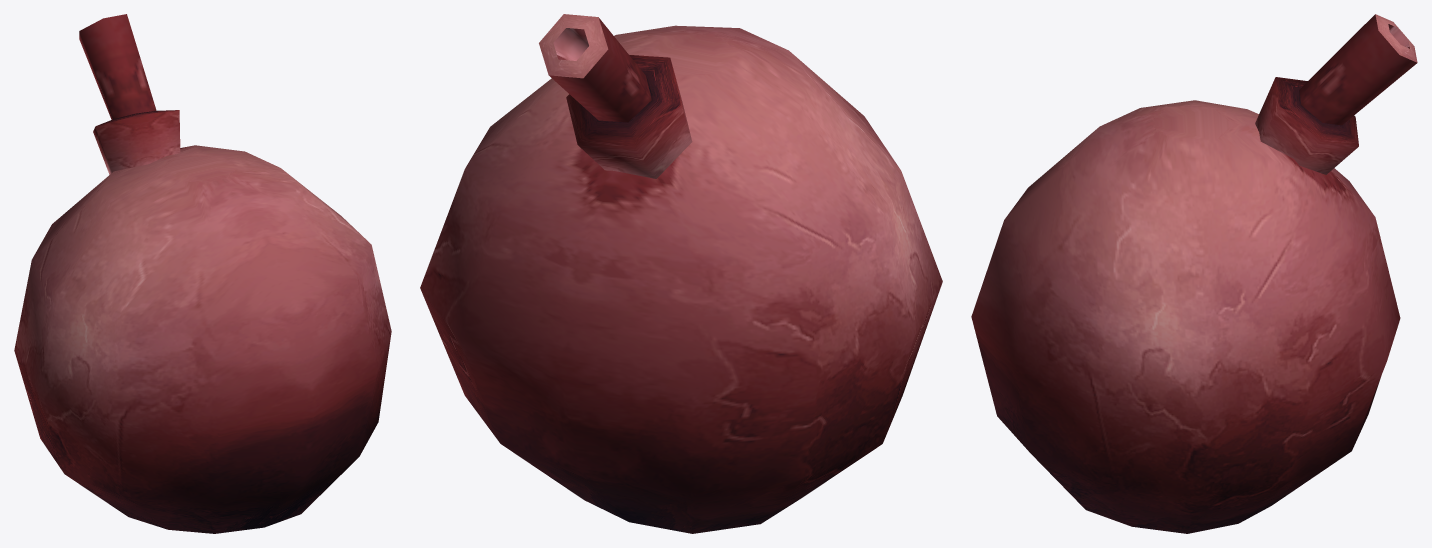
File: rebonBomb.fbx
3 views of the same model, side by side, from view 1: azimuth 30°, elevation 25°; view 2: azimuth 150°, elevation 25°; view 3: azimuth 270°, elevation 25° (orthographic). The views are drawn at different scales.
Parts seen in each view (by area): view 1: Missile_bomb; view 2: Missile_bomb; view 3: Missile_bomb.
Part boxes in pixels (<box>): Missile_bomb: <box>14,14,391,533</box>; Missile_bomb: <box>420,14,942,533</box>; Missile_bomb: <box>971,14,1417,533</box>.
Size of the model in its own units: 43.2 by 53.71 by 44.97.
1 material, 1 textured.
